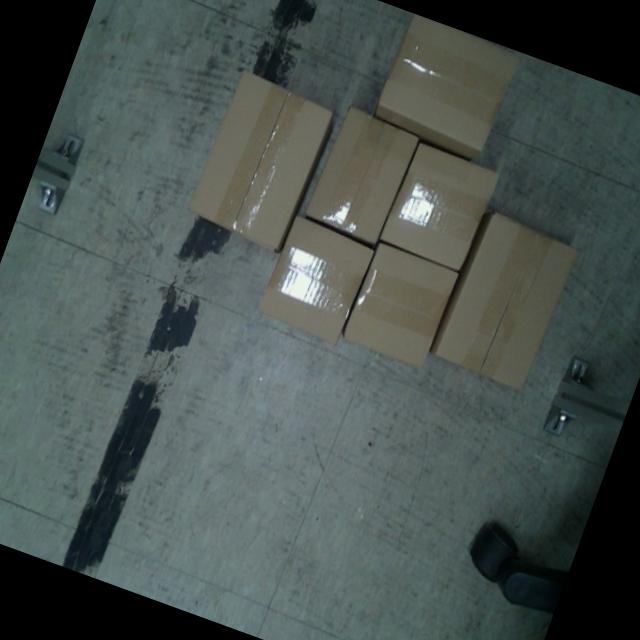box: (182, 66, 338, 258), (430, 205, 584, 396), (368, 12, 524, 164), (300, 103, 420, 249), (376, 140, 502, 274), (340, 240, 463, 370), (258, 214, 374, 344)
